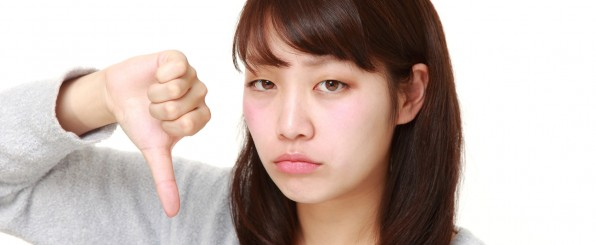face: (243, 8, 431, 206)
hand: (104, 49, 213, 219)
